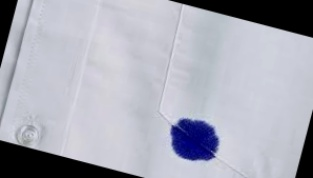ink: (166, 115, 225, 167)
